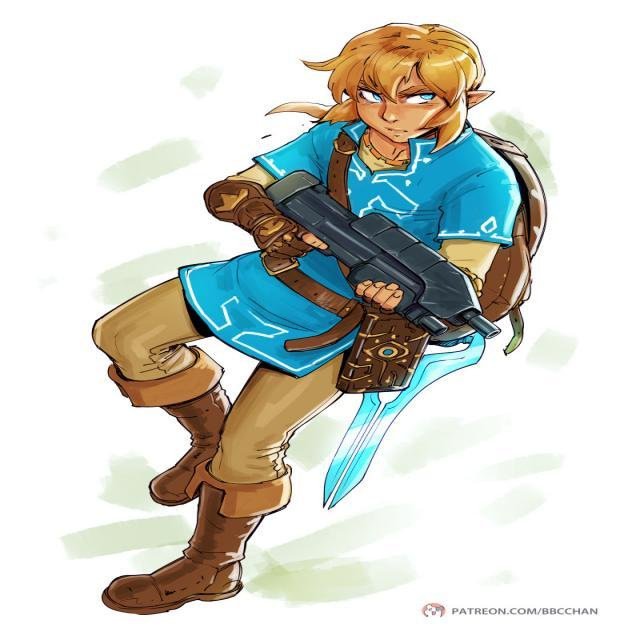weapon: (265, 164, 502, 348)
